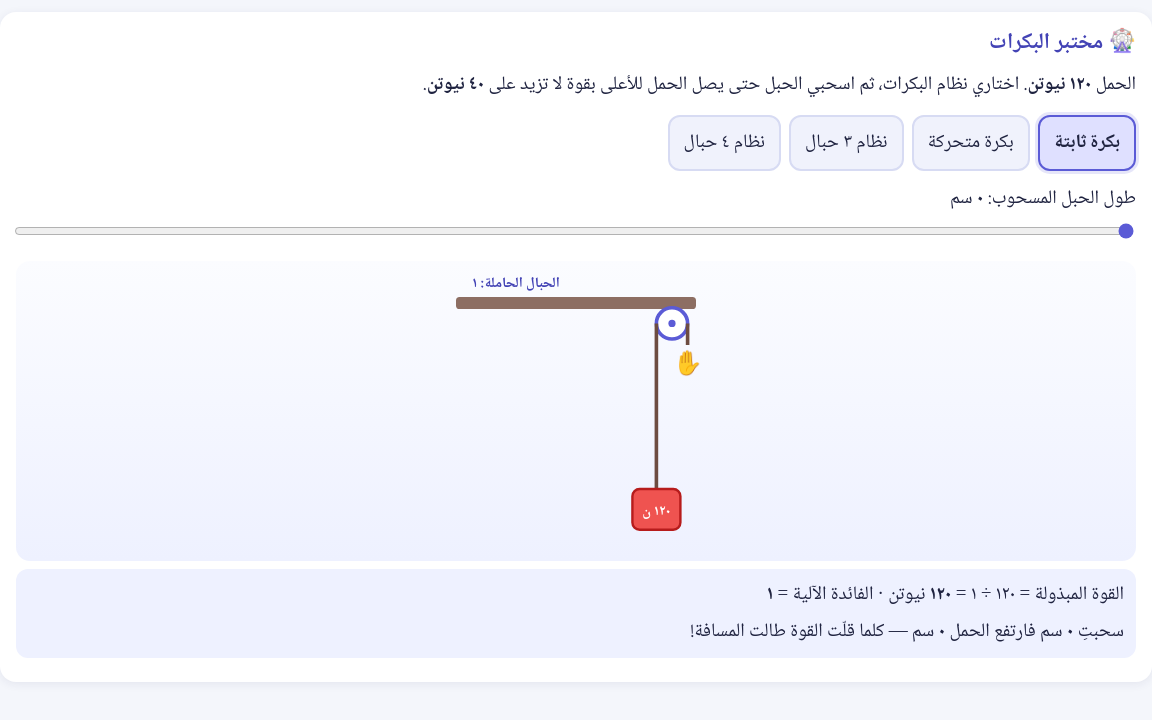
Test case: البكرات › تغيير النظام يعيد الحبل إلى الصفر
Set the slider labelled "طول الحبل المسحوب: ٠ سم" to "40" at (574, 231), box [14,223,1134,239]
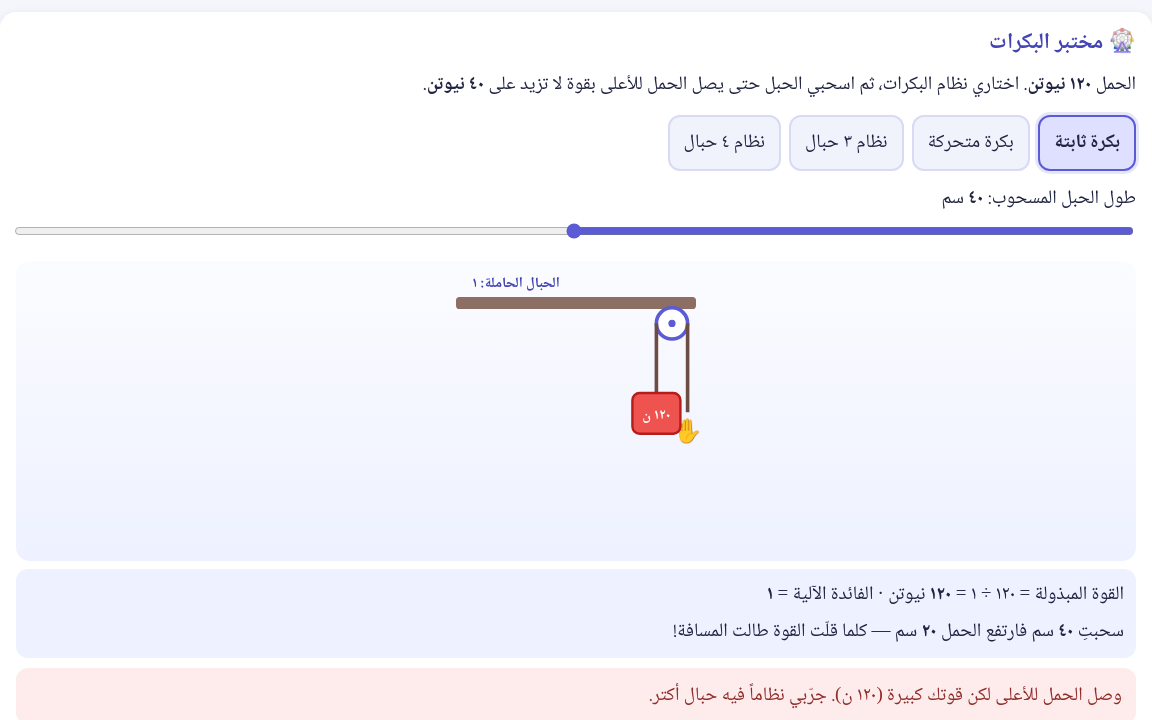
Click the button "بكرة متحركة" at (971, 143), box [912,115,1030,171]
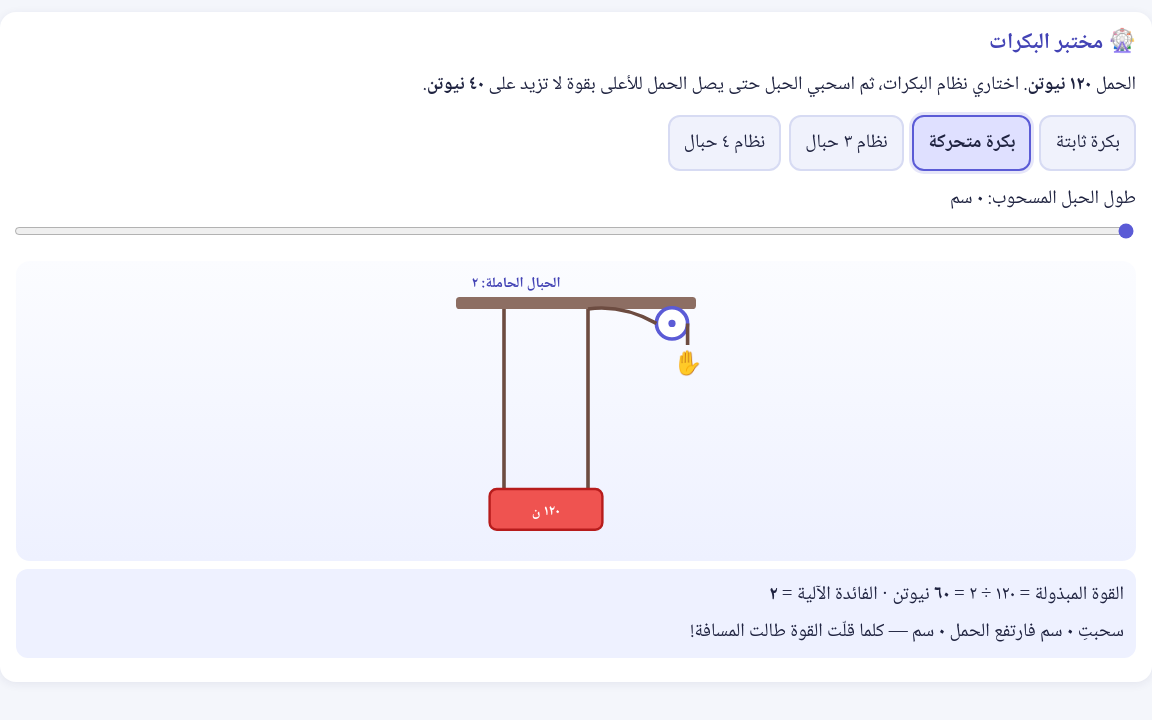
Expected: the slider labelled "طول الحبل المسحوب: ٠ سم" holds "0", [14,223,1134,239]
